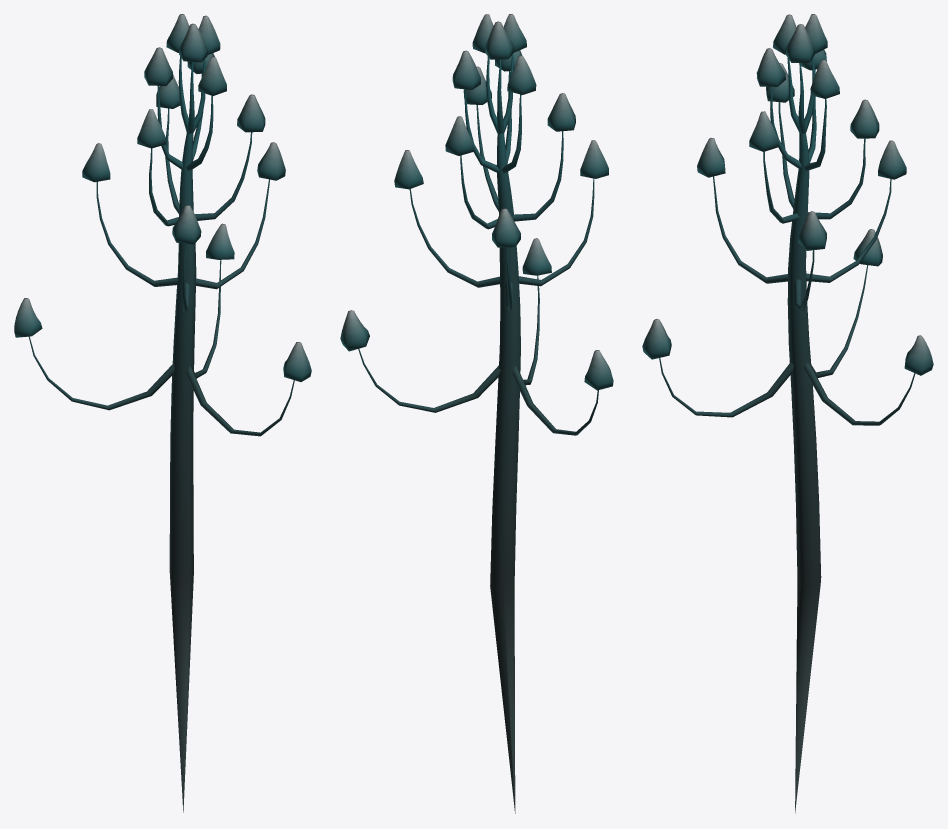
Rendered from plants-flowers-teal-bell-flower_v2.fbx.
3 views of the same model, side by side, from view 1: azimuth 30°, elevation 25°; view 2: azimuth 150°, elevation 25°; view 3: azimuth 270°, elevation 25° (orthographic).
Visible parts, largest first — view 1: Teal Bell Flower_v2; view 2: Teal Bell Flower_v2; view 3: Teal Bell Flower_v2.
Part boxes in pixels (bbox=[...]): Teal Bell Flower_v2: bbox=[14, 14, 311, 812]; Teal Bell Flower_v2: bbox=[340, 14, 613, 813]; Teal Bell Flower_v2: bbox=[642, 14, 933, 813].
Bounding box in the file's own units: 0.1937 × 0.6 × 0.197.
